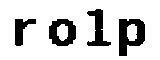1: (84, 6, 112, 49)
o: (45, 18, 77, 48)
p: (116, 17, 146, 56)
r: (12, 15, 39, 50)
